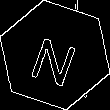N_N: (27, 25, 83, 85)
